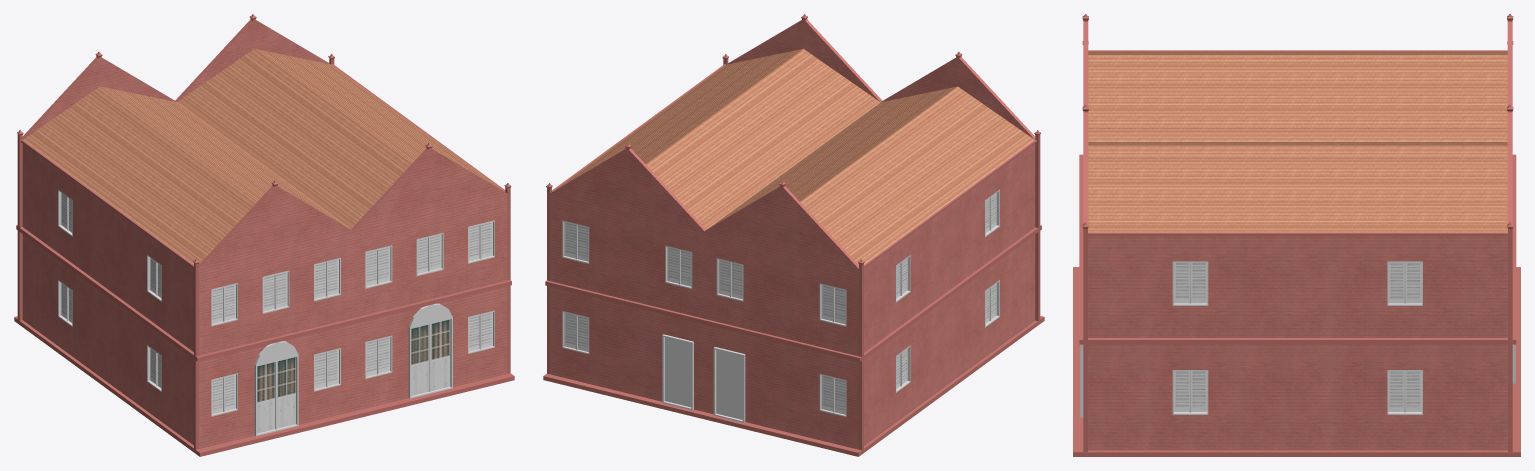
File: Semi_D_House_01.fbx
The picture shows the model from 3 angles, left to right: view 1: azimuth 30°, elevation 25°; view 2: azimuth 150°, elevation 25°; view 3: azimuth 270°, elevation 25°; orthographic projection. The views are drawn at different scales.
Parts seen in each view (by area): view 1: Cube; view 2: Cube; view 3: Cube.
Part boxes in pixels (bbox=[...]): Cube: bbox=[14, 14, 514, 456]; Cube: bbox=[543, 14, 1044, 456]; Cube: bbox=[1073, 14, 1520, 456].
Size of the model in its own units: 14.34 by 10.97 by 14.61.
